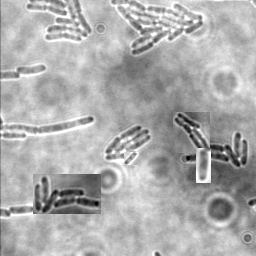Dividing: (1, 114, 95, 133), (196, 148, 211, 183), (8, 204, 35, 215)
Microcolony: (109, 1, 205, 56), (25, 1, 94, 44), (33, 174, 101, 214), (103, 124, 150, 160), (173, 112, 210, 153), (16, 63, 48, 74)
Rod: (124, 152, 139, 165)
